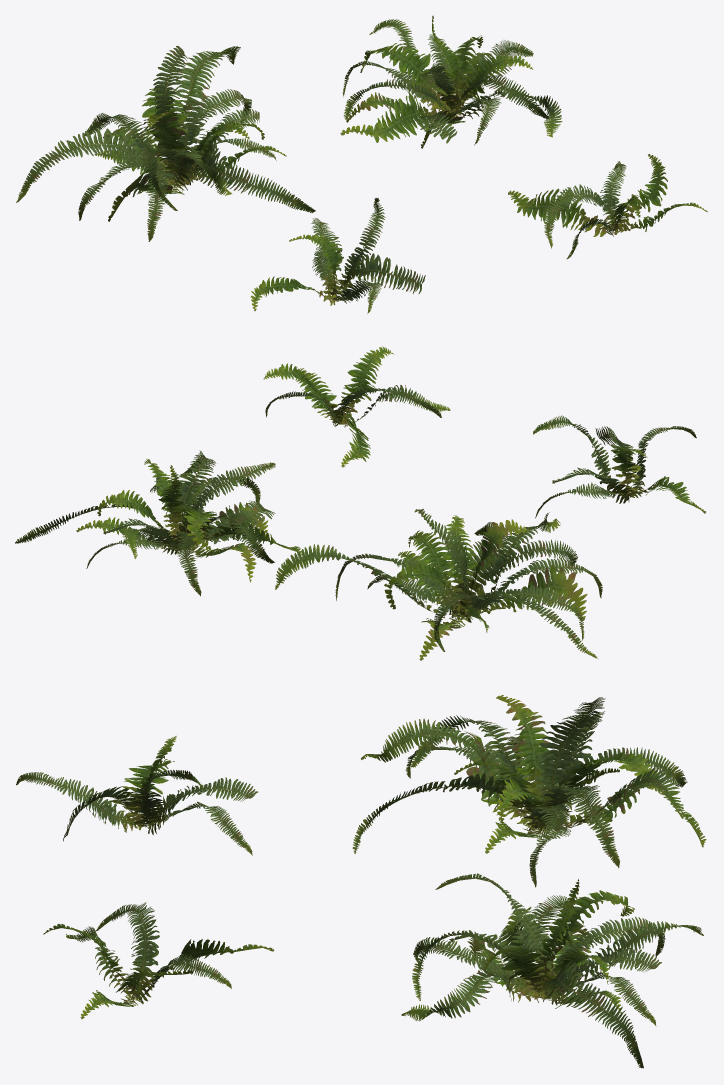
File: fern.glb
3 views of the same model, one above another, from view 1: azimuth 30°, elevation 25°; view 2: azimuth 150°, elevation 25°; view 3: azimuth 270°, elevation 25° (orthographic). The views are drawn at different scales.
Parts seen in each view (by area): view 1: fern_02_b; view 2: fern_02_b; view 3: fern_02_b.
Part boxes in pixels (x1,y1,x2,y2): fern_02_b: (16, 15, 707, 313); fern_02_b: (15, 346, 705, 660); fern_02_b: (16, 695, 706, 1068).
Size of the model in its own units: 1.97 by 0.4277 by 1.72.
1 material, 1 textured.
